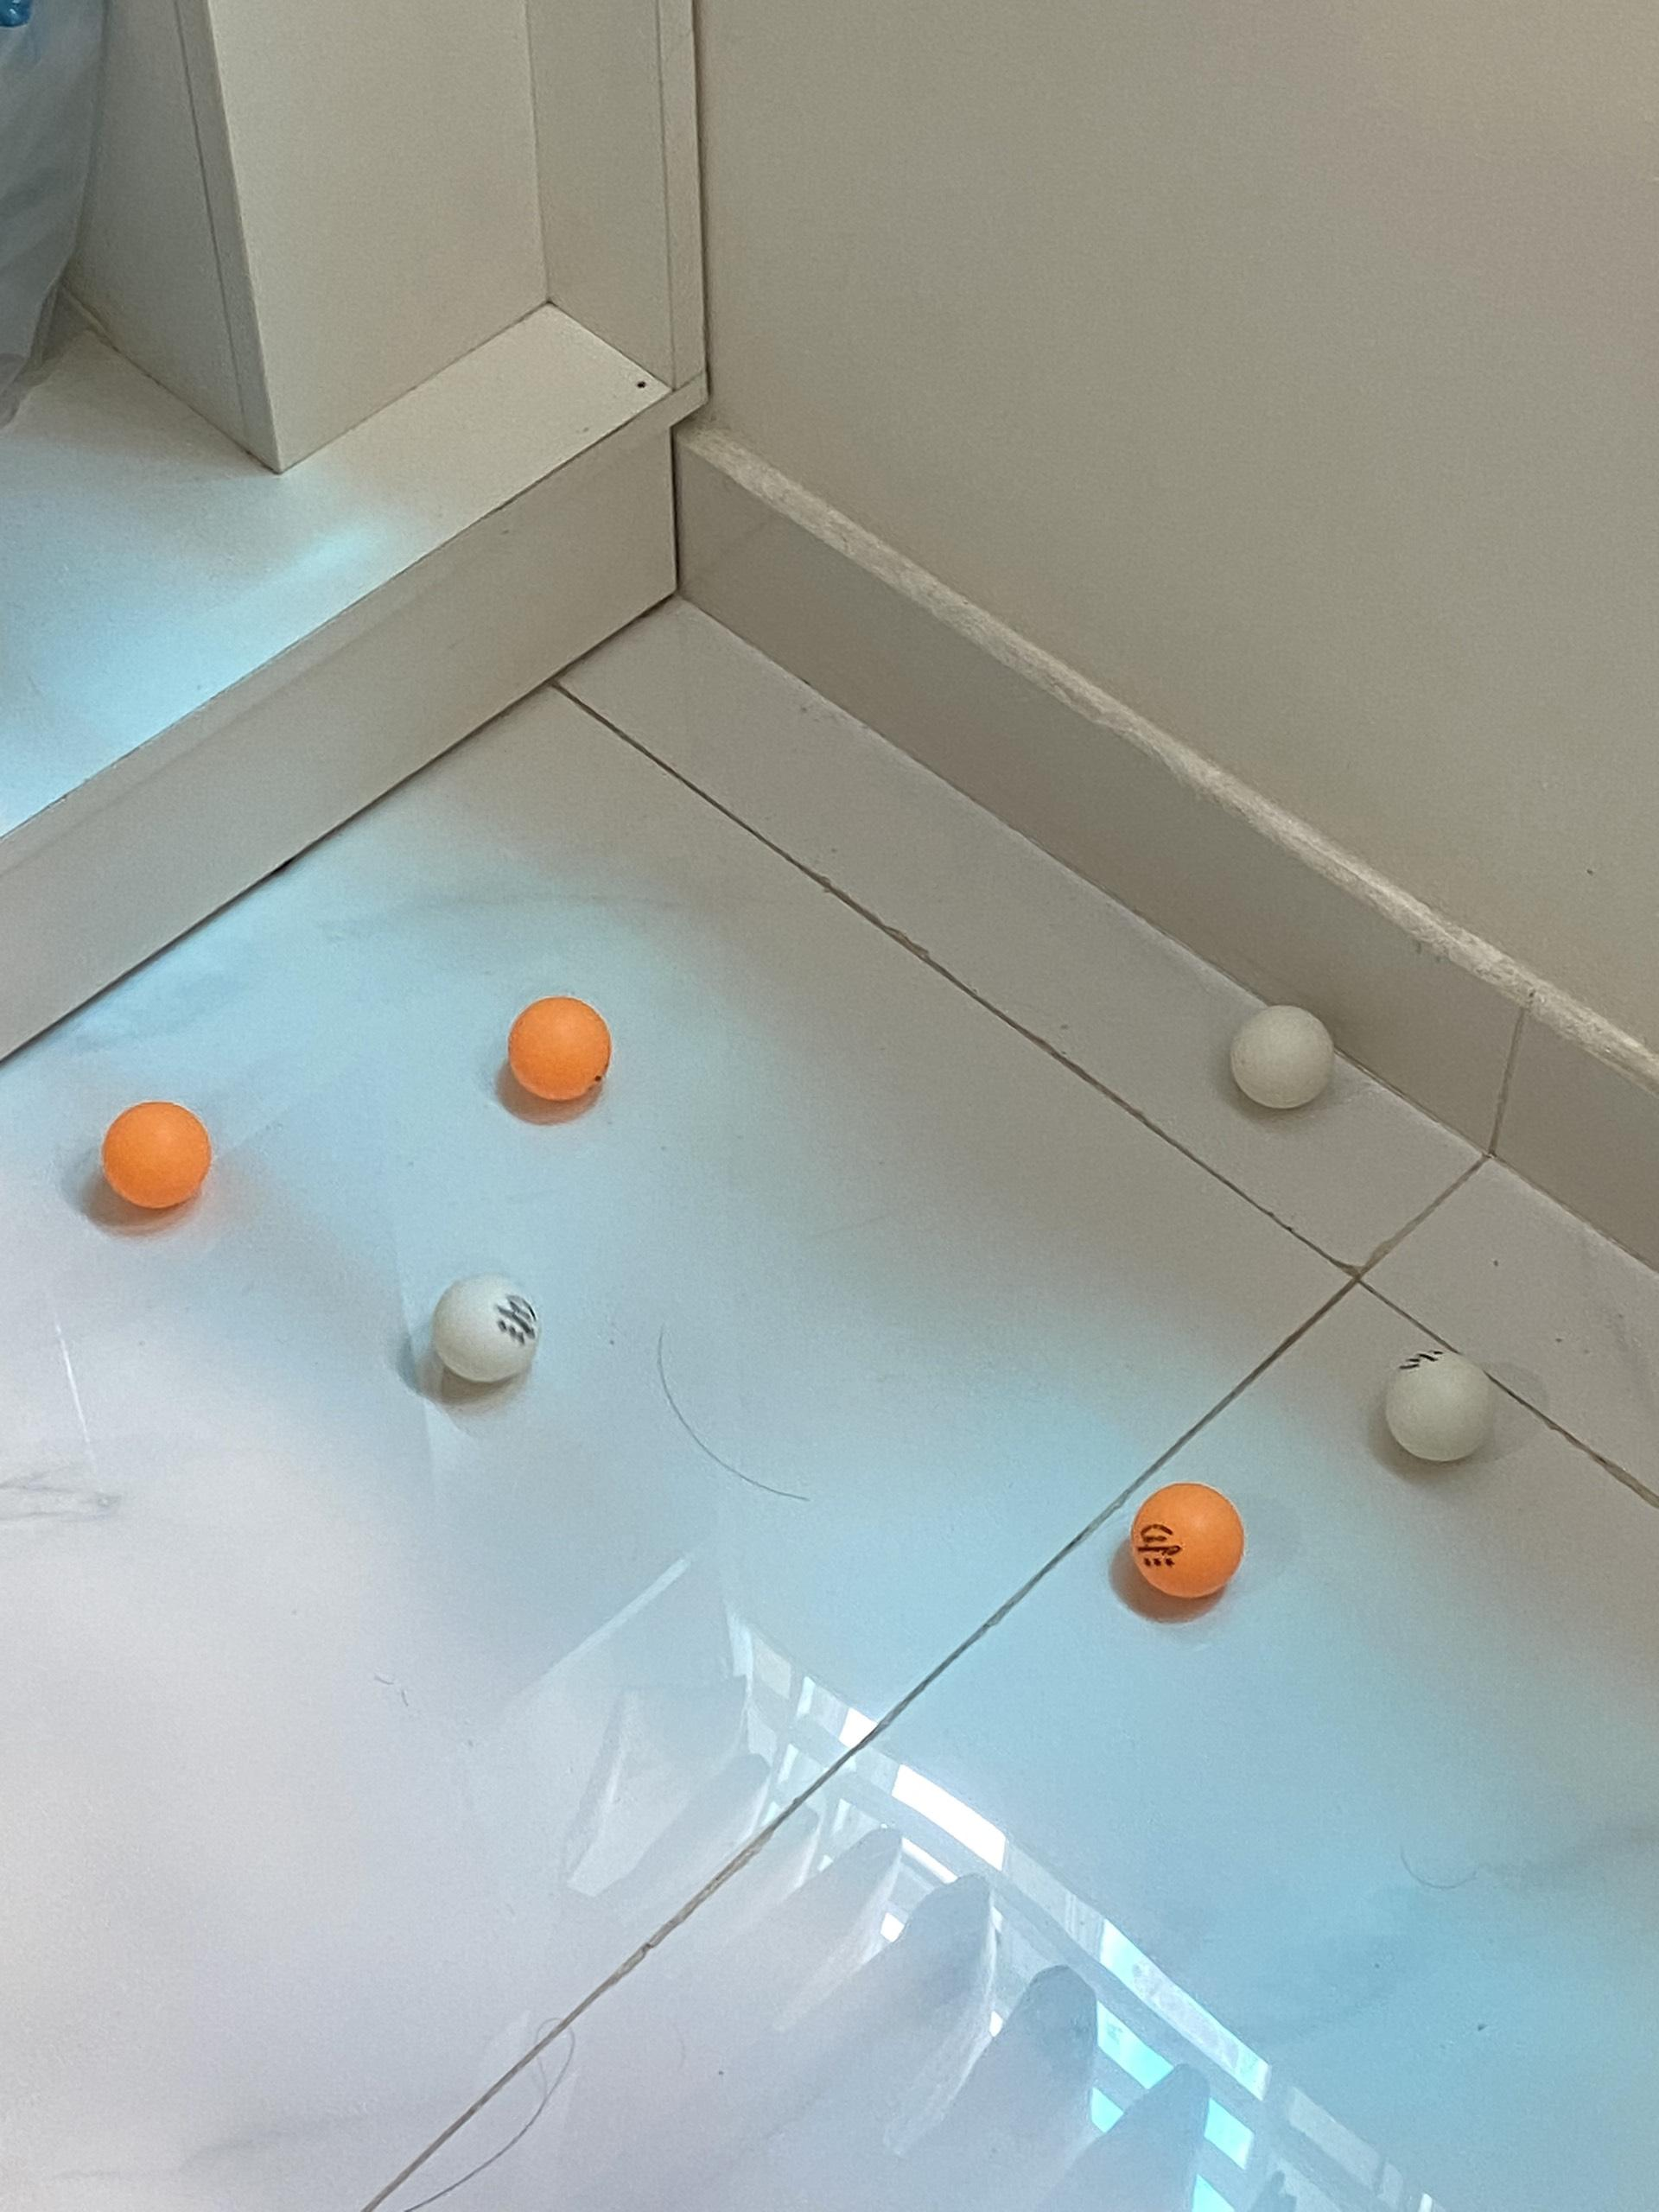oball: (1131, 1484, 1241, 1608), (106, 1097, 211, 1212), (507, 995, 617, 1103)
